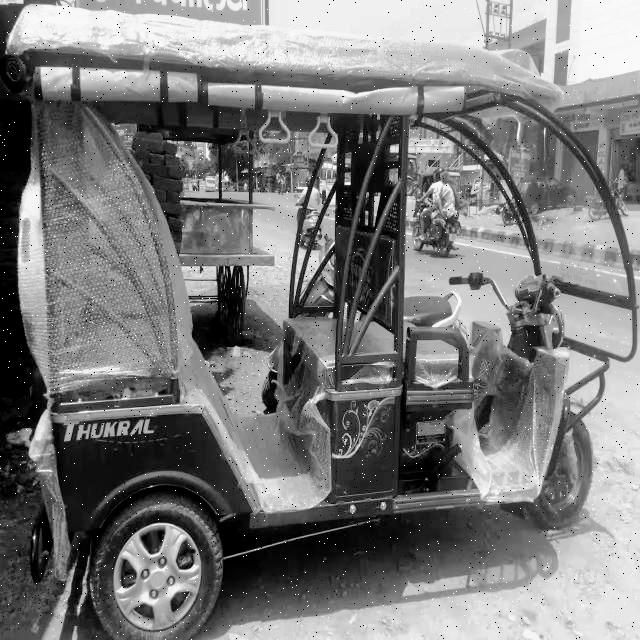Toto: (14, 10, 640, 640)
